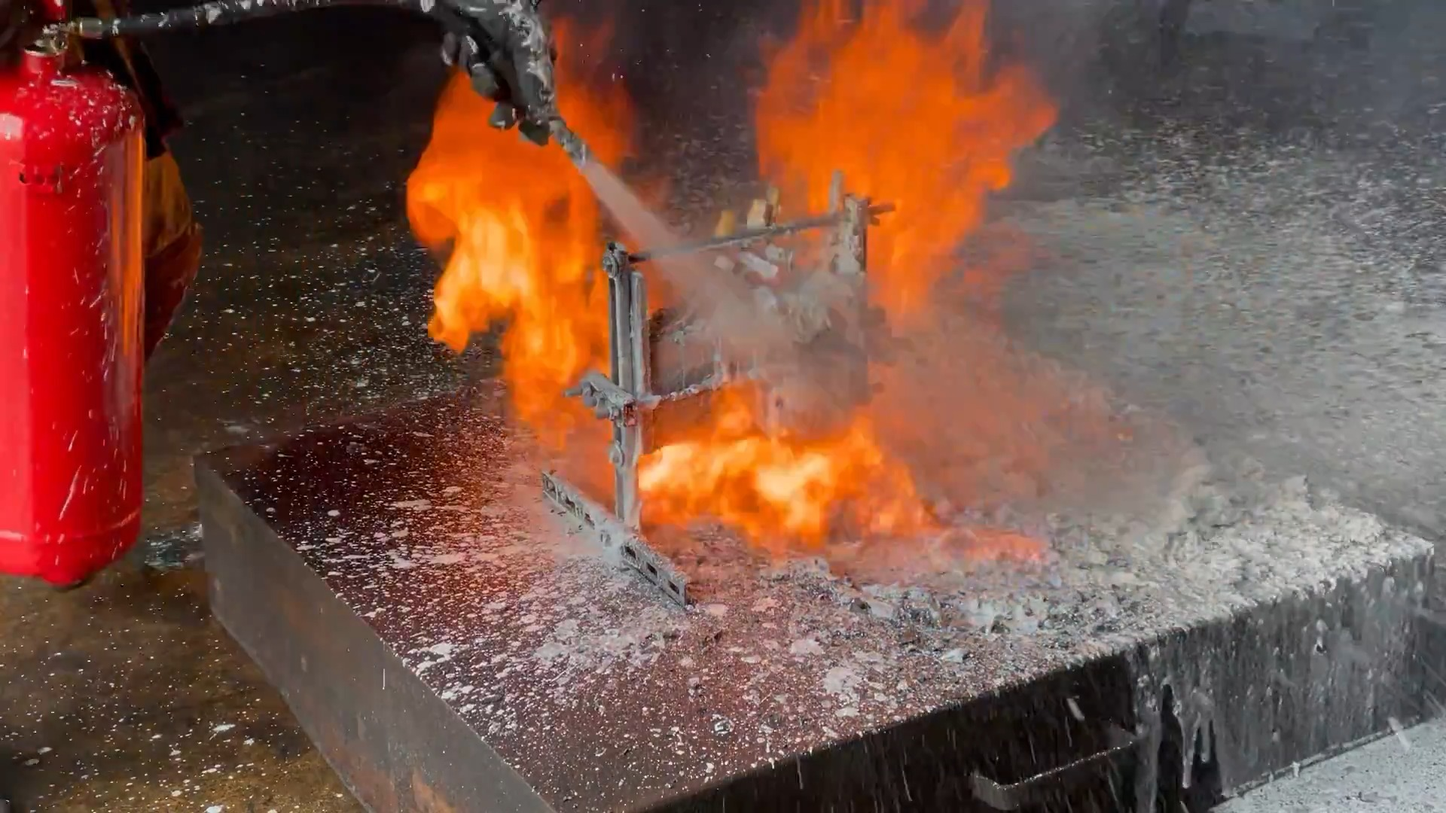fire: (404, 15, 651, 458), (749, 0, 1065, 346), (631, 377, 944, 559)
